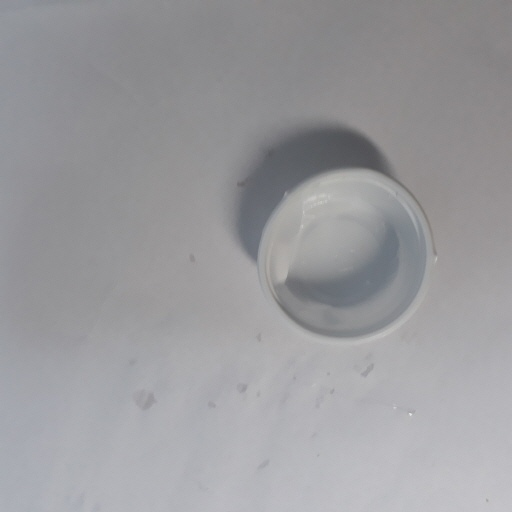Plastic_5: (250, 167, 435, 343)
